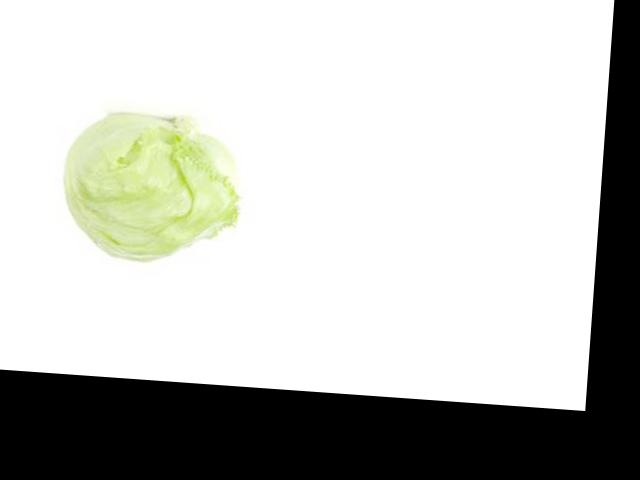lettuce: (67, 117, 195, 336)
